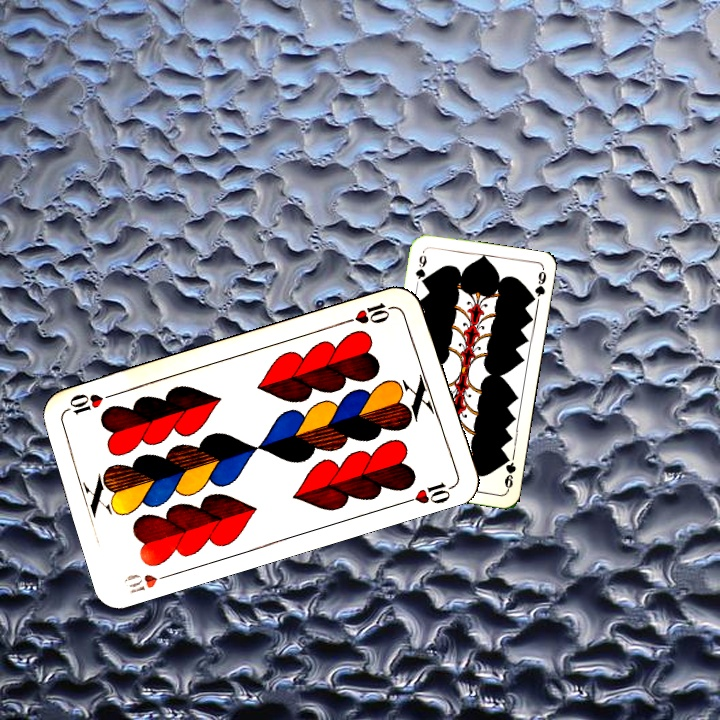G9: (500, 451, 518, 493), (411, 251, 429, 287)
H10: (341, 298, 399, 327), (119, 568, 178, 596)
